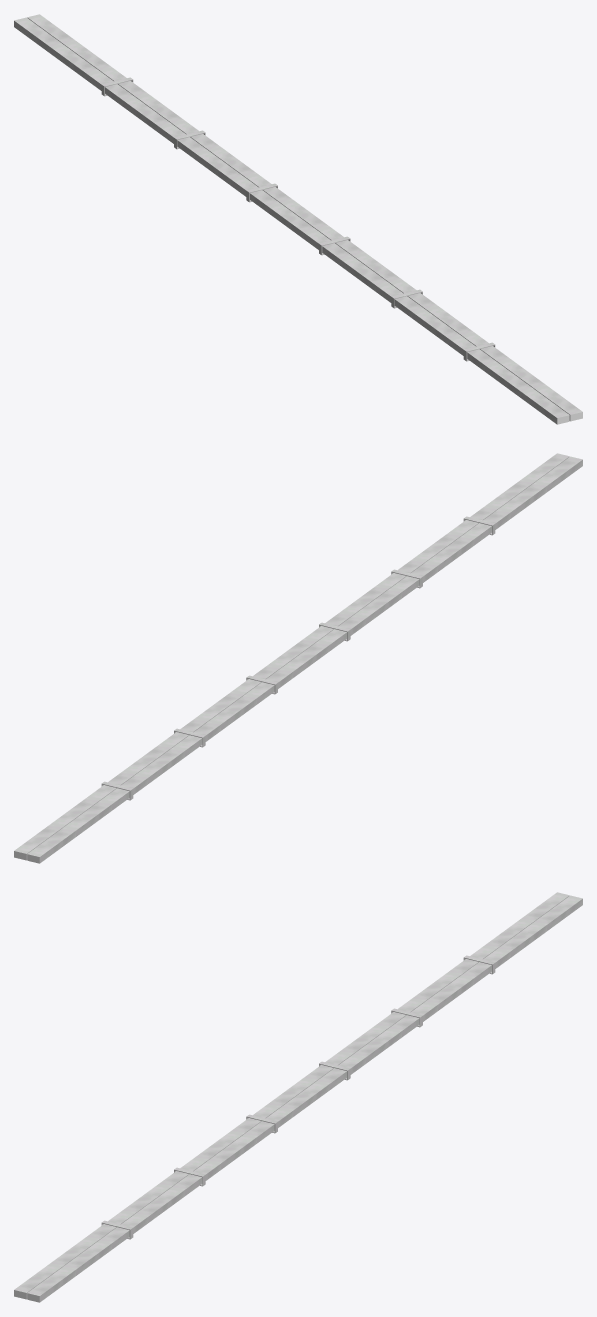
The model's file is Hanging_Pipe.fbx.
3 renders of one model, top to bottom at view 1: azimuth 30°, elevation 25°; view 2: azimuth 150°, elevation 25°; view 3: azimuth 330°, elevation 25°, orthographic.
Parts seen in each view (by area): view 1: node_id19, node_id16; view 2: node_id19, node_id16; view 3: node_id16, node_id19.
Boxes of the visible parts, box(x1,y1,x2,y2) form: node_id19: box(14, 17, 569, 424); node_id16: box(27, 14, 582, 420); node_id19: box(27, 456, 582, 863); node_id16: box(14, 453, 569, 859); node_id16: box(27, 895, 582, 1302); node_id19: box(14, 892, 569, 1298).
Size of the model in its own units: 0.512 by 0.167 by 16.7.
Materials: 40 (26 with a texture image).
